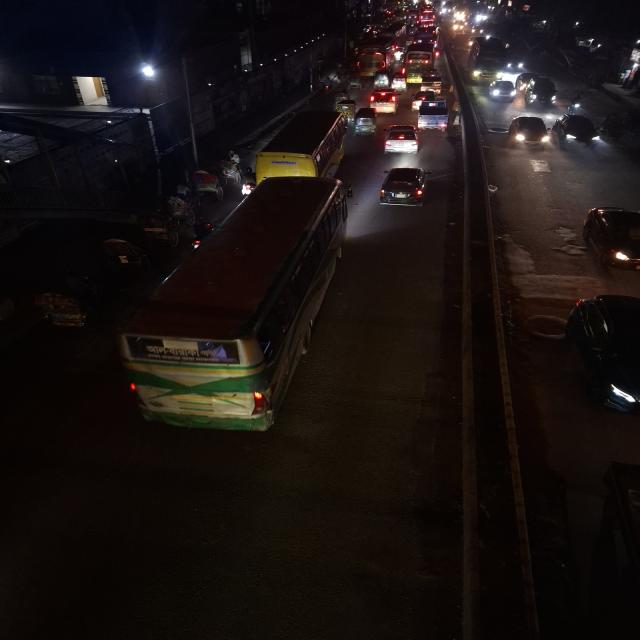bus: (113, 176, 351, 438), (251, 107, 350, 185), (465, 36, 513, 83), (402, 40, 442, 82), (354, 37, 394, 75)
car: (578, 202, 640, 274), (377, 164, 433, 212), (554, 111, 604, 152), (506, 112, 552, 152), (522, 72, 560, 109), (382, 122, 420, 157), (366, 86, 402, 114), (487, 77, 518, 103), (414, 88, 440, 106)
cng: (559, 290, 640, 422), (352, 106, 378, 138), (372, 69, 391, 87)
motorcycle: (566, 93, 585, 115)
pedestrian: (414, 98, 457, 132)
pickup_van: (418, 68, 446, 92)
rickshaw: (29, 276, 112, 332), (187, 168, 226, 202), (334, 92, 357, 114)
